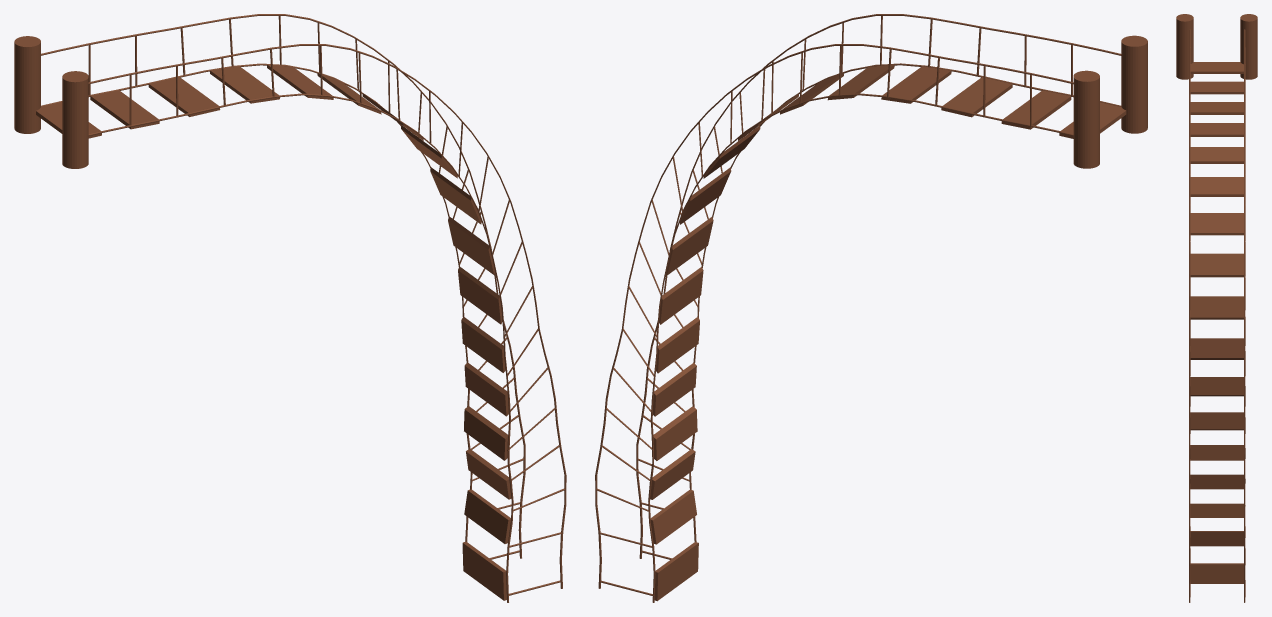
Rendered from flacid_bridge.fbx.
3 views of the same model, side by side, from view 1: azimuth 30°, elevation 25°; view 2: azimuth 150°, elevation 25°; view 3: azimuth 270°, elevation 25° (orthographic). The views are drawn at different scales.
Visible parts, largest first — view 1: Cube, Cylinder.004, Cylinder.005, Cylinder.007, Cylinder, Cylinder.006, Cylinder.002; view 2: Cube, Cylinder.005, Cylinder.004, Cylinder.006, Cylinder.007, Cylinder.002, Cylinder; view 3: Cube, Cylinder.007, Cylinder.006, Cylinder.004, Cylinder.005.
Boxes of the visible parts, box(x1,y1,x2,y2) form: Cube: box(36, 64, 511, 600); Cylinder.004: box(62, 71, 88, 168); Cylinder.005: box(14, 36, 40, 133); Cylinder.007: box(88, 44, 566, 588); Cylinder: box(88, 93, 513, 602); Cylinder.006: box(41, 14, 525, 558); Cylinder.002: box(41, 63, 472, 541); Cube: box(650, 64, 1126, 601); Cylinder.005: box(1073, 70, 1099, 168); Cylinder.004: box(1121, 35, 1147, 133); Cylinder.006: box(595, 44, 1073, 588); Cylinder.007: box(636, 14, 1121, 558); Cylinder.002: box(648, 93, 1073, 602); Cylinder: box(689, 63, 1121, 541); Cube: box(1190, 62, 1243, 583); Cylinder.007: box(1189, 29, 1190, 602); Cylinder.006: box(1244, 29, 1245, 602); Cylinder.004: box(1176, 14, 1193, 79); Cylinder.005: box(1240, 14, 1257, 79).
Size of the model in its own units: 1436 by 1722 by 299.
